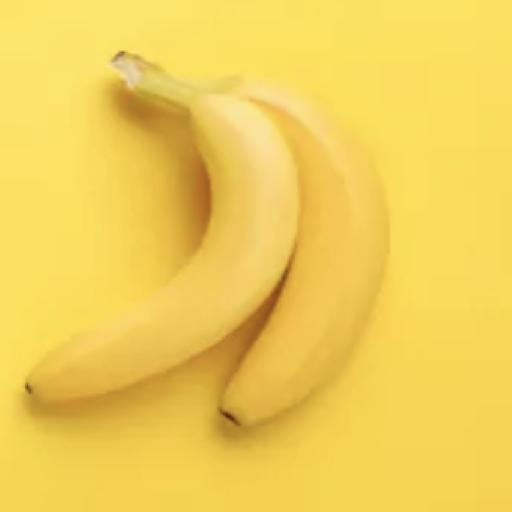banana: (27, 80, 298, 401), (202, 79, 388, 425)
